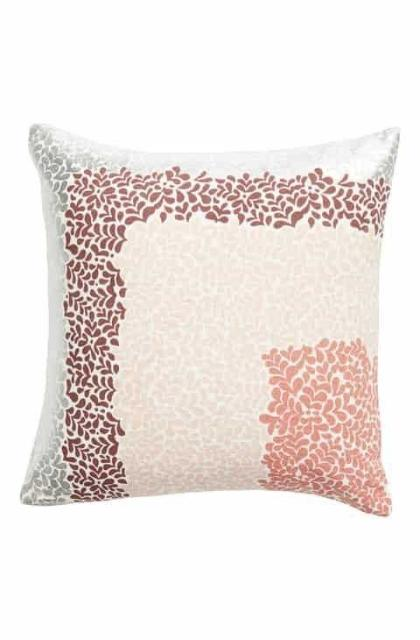pillow: (19, 121, 401, 515)
